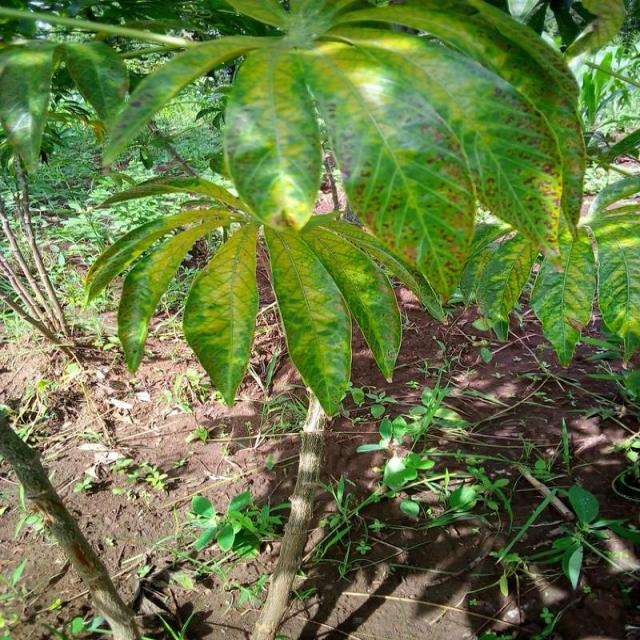cassava leaf: (264, 222, 354, 416), (300, 219, 404, 383), (182, 220, 261, 407)
